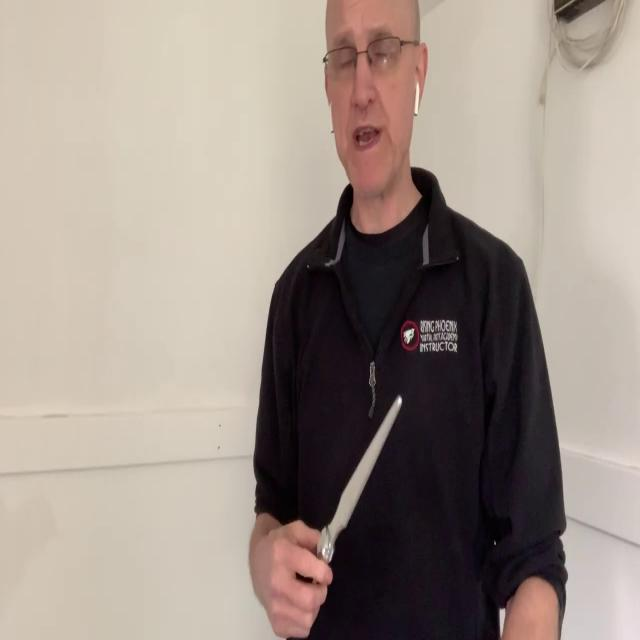Knife_Handle: (260, 395, 402, 640)
